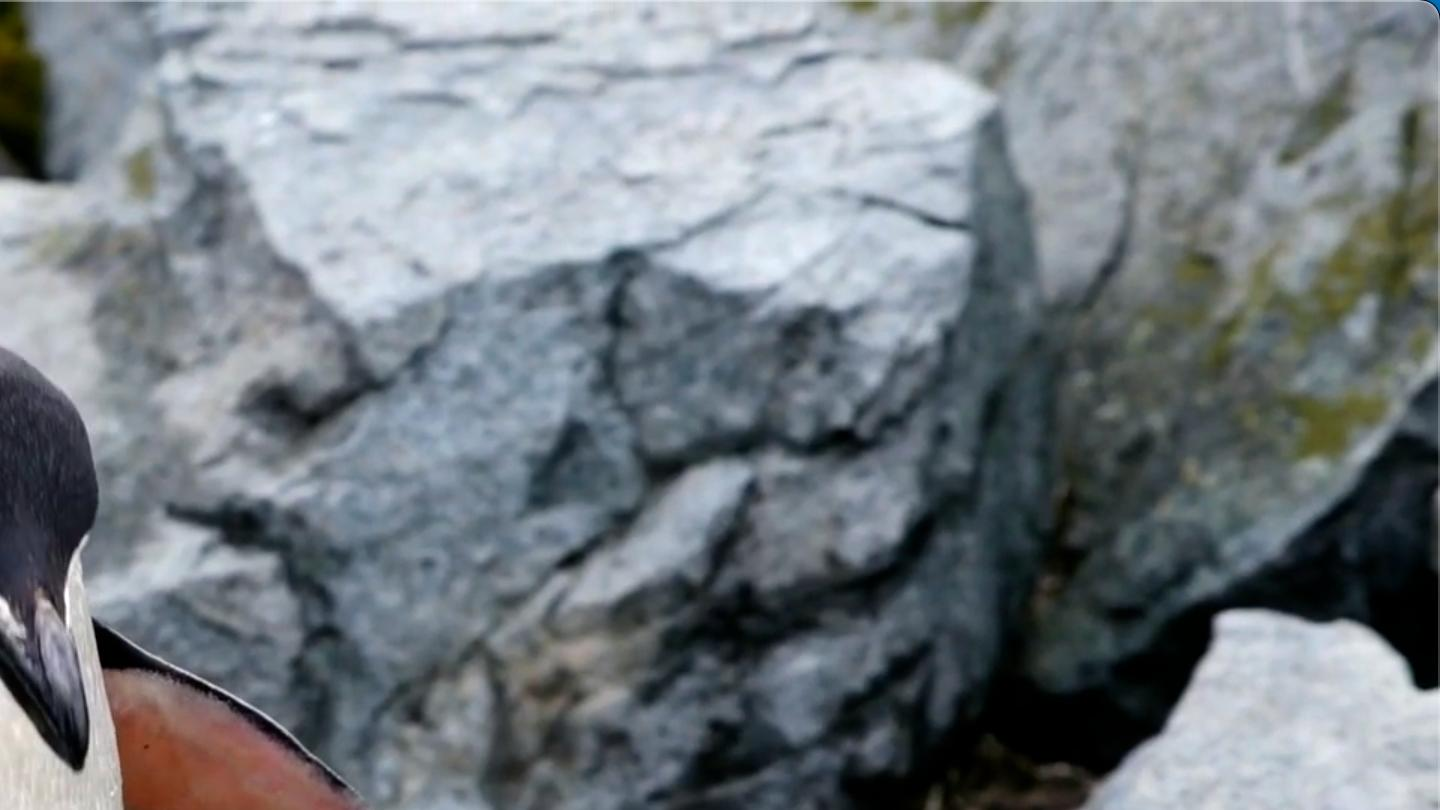Chinstrap Penguin: (0, 310, 465, 810)
